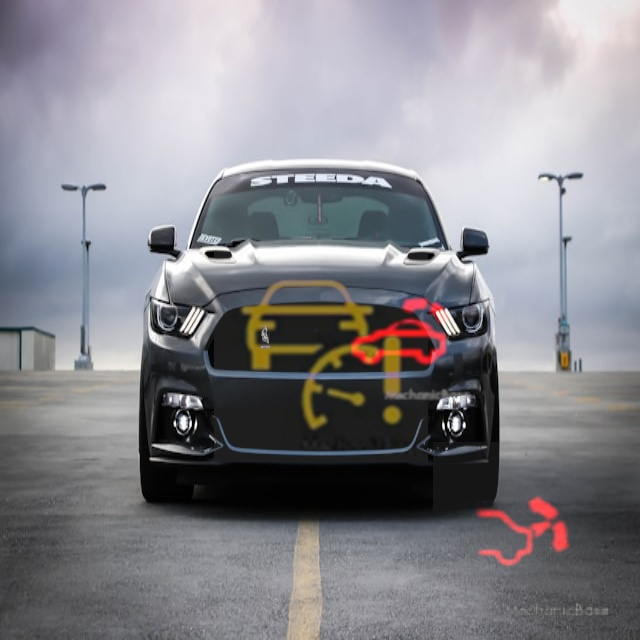symbol: (214, 248, 428, 462), (433, 442, 616, 625), (327, 259, 475, 407)
